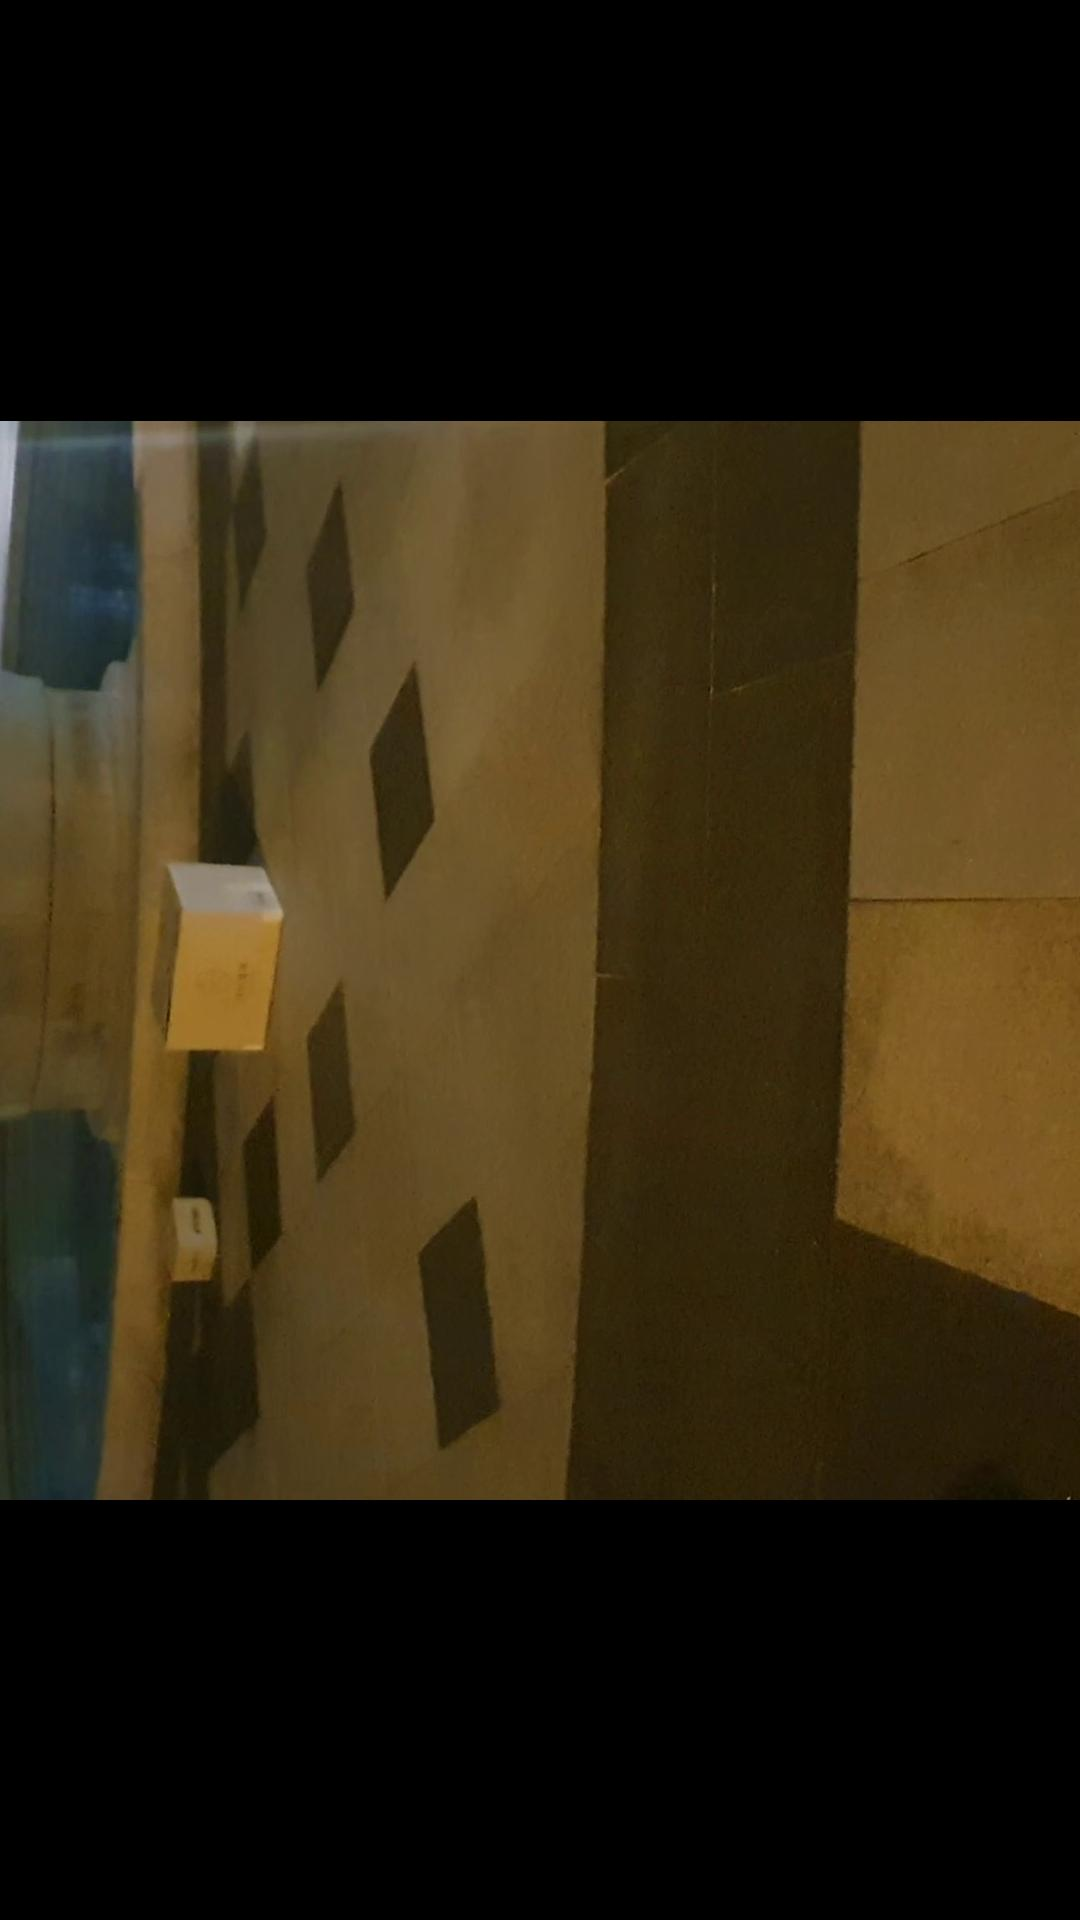Box: (153, 855, 284, 1052), (156, 1189, 235, 1298)
